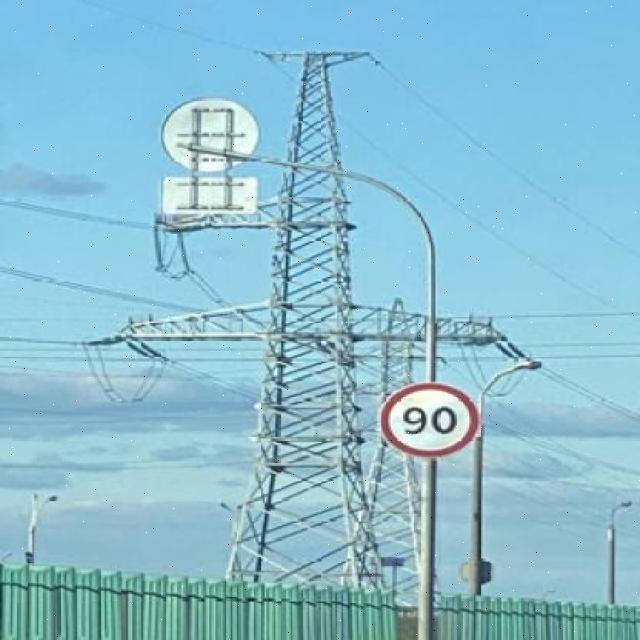speed limit 90: (378, 384, 478, 457)
